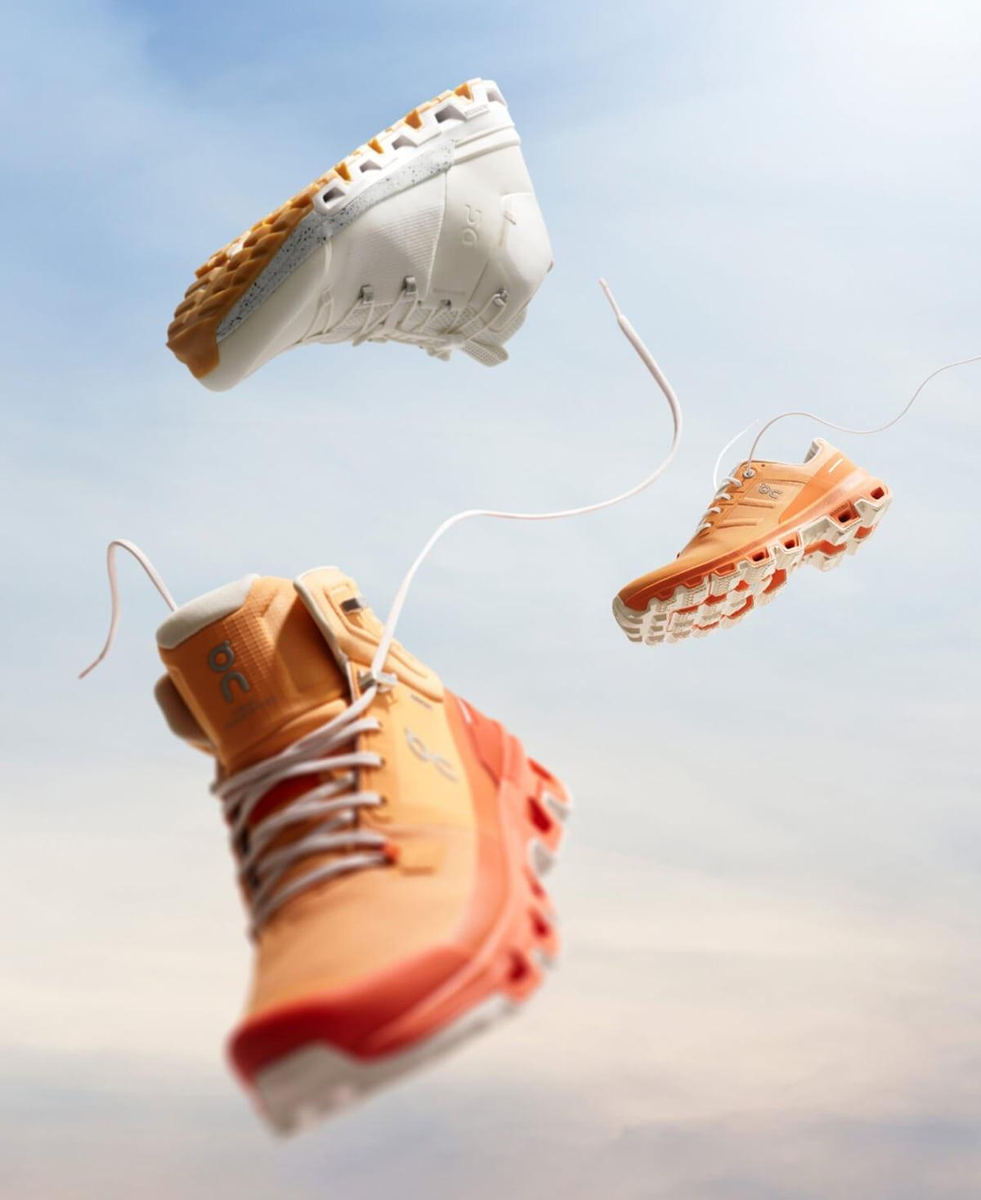OC_logo: (391, 723, 489, 795), (188, 630, 258, 719), (450, 190, 492, 275), (746, 469, 799, 509)
